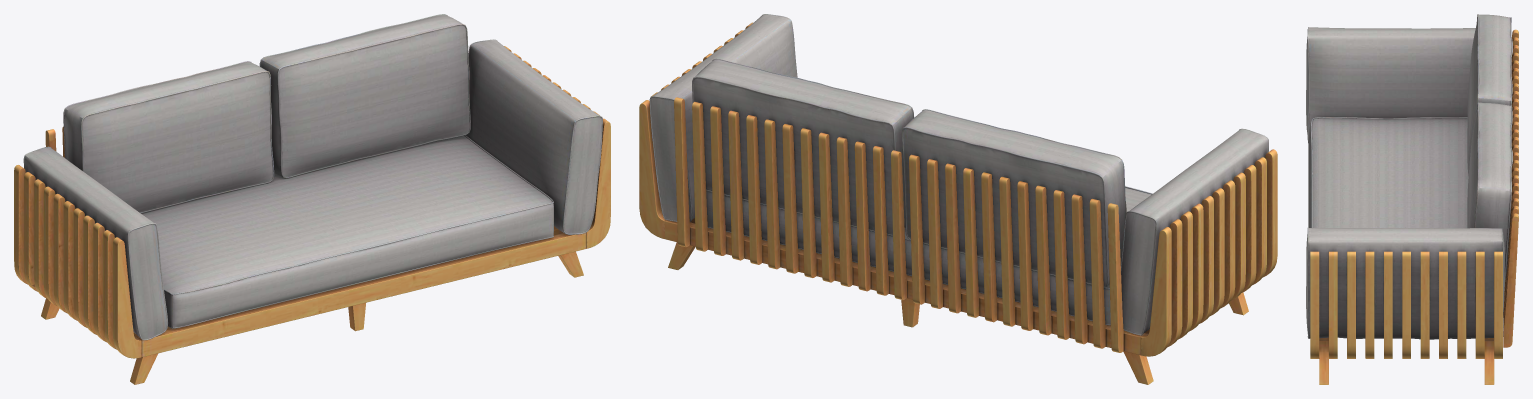
The model's file is DWDW002.glb.
3 views of the same model, side by side, from view 1: azimuth 30°, elevation 25°; view 2: azimuth 150°, elevation 25°; view 3: azimuth 270°, elevation 25° (orthographic). The views are drawn at different scales.
Parts seen in each view (by area): view 1: base; view 2: base; view 3: base.
Part boxes in pixels (x1=…): base: x1=14, y1=14, x2=610, y2=384; base: x1=639, y1=14, x2=1277, y2=384; base: x1=1306, y1=14, x2=1518, y2=384.
Bounding box in the file's own units: 2.3 × 0.8936 × 0.9253.
Materials: 1 (1 with a texture image).
